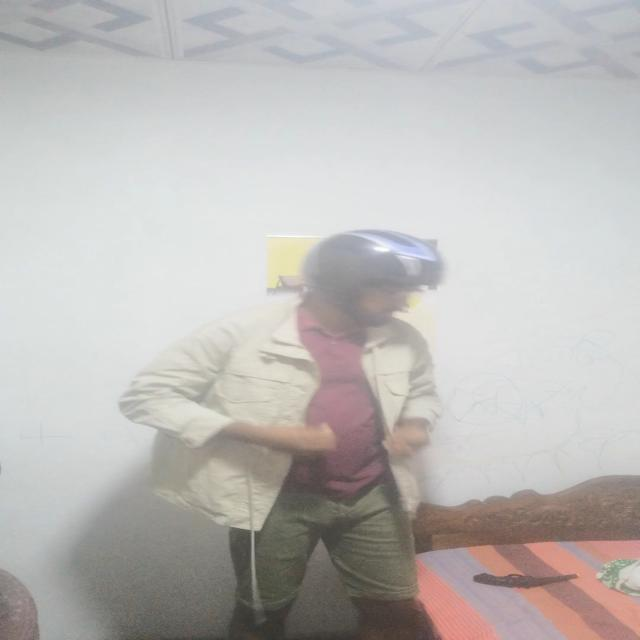Helmet_Wearer: (281, 221, 461, 332)
Jacket_Wearer: (129, 311, 452, 512)
Person: (120, 223, 459, 640)
